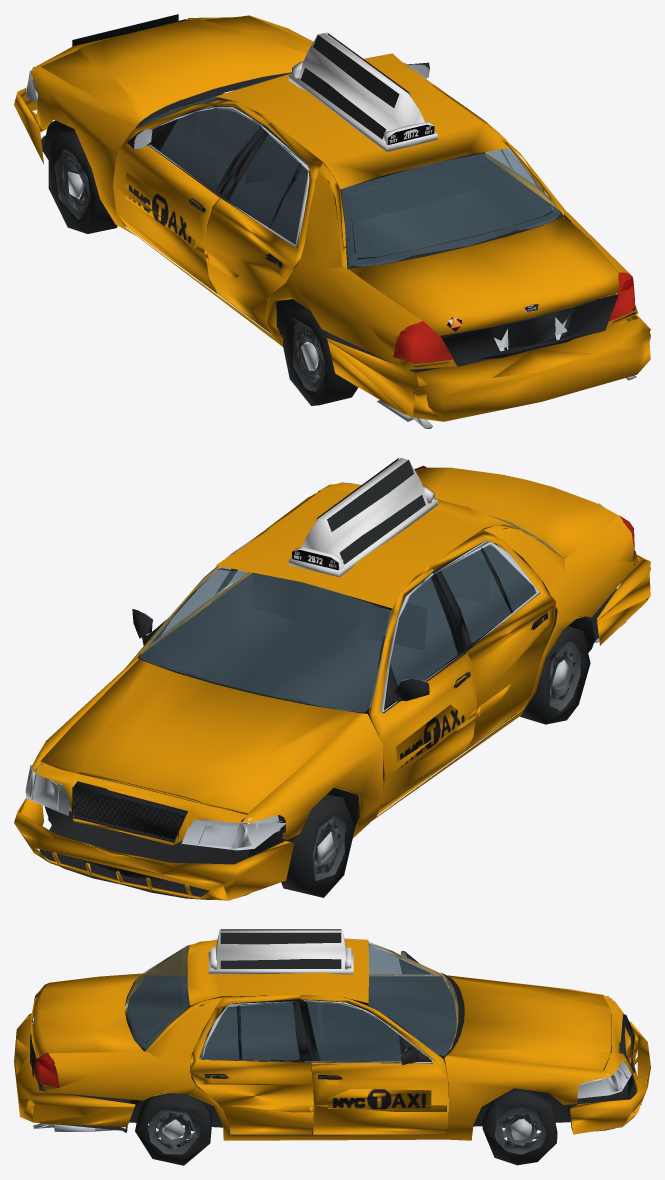
Rendered from taxi_lod2.glb.
3 views of the same model, one above another, from view 1: azimuth 30°, elevation 25°; view 2: azimuth 150°, elevation 25°; view 3: azimuth 270°, elevation 25° (orthographic). The views are drawn at different scales.
Parts seen in each view (by area): view 1: LOD2_BodyCore, LOD2_Bumper_Rear, LOD2_Trunk, LOD2_Glass_Rear, LOD2_Hood, LOD2_Door_FL, LOD2_Door_RL, LOD2_RoofSign, LOD2_Glass_FL, LOD2_Glass_RL, LOD2_Wheel_RL, LOD2_Wheel_FL (+6 smaller); view 2: LOD2_BodyCore, LOD2_Hood, LOD2_Glass_Windshield, LOD2_Door_FL, LOD2_Door_RL, LOD2_Bumper_Front, LOD2_RoofSign, LOD2_Trunk, LOD2_Grille, LOD2_Wheel_FL, LOD2_Glass_RL, LOD2_Glass_FL (+7 smaller); view 3: LOD2_BodyCore, LOD2_Hood, LOD2_Door_FR, LOD2_Door_RR, LOD2_Trunk, LOD2_Glass_Windshield, LOD2_RoofSign, LOD2_Bumper_Rear, LOD2_Glass_RR, LOD2_Wheel_FR, LOD2_Wheel_RR, LOD2_Glass_FR (+8 smaller).
Part boxes in pixels (bbox=[...]): LOD2_BodyCore: bbox=[30, 15, 638, 428]; LOD2_Bumper_Rear: bbox=[327, 293, 650, 421]; LOD2_Trunk: bbox=[348, 216, 618, 335]; LOD2_Glass_Rear: bbox=[341, 148, 561, 268]; LOD2_Hood: bbox=[41, 16, 311, 124]; LOD2_Door_FL: bbox=[113, 100, 271, 293]; LOD2_Door_RL: bbox=[204, 122, 323, 331]; LOD2_RoofSign: bbox=[288, 32, 437, 151]; LOD2_Glass_FL: bbox=[160, 108, 260, 190]; LOD2_Glass_RL: bbox=[230, 135, 307, 244]; LOD2_Wheel_RL: bbox=[282, 307, 358, 405]; LOD2_Wheel_FL: bbox=[48, 130, 117, 233]; LOD2_BodyCore: bbox=[30, 482, 638, 899]; LOD2_Hood: bbox=[40, 659, 360, 814]; LOD2_Glass_Windshield: bbox=[140, 567, 391, 712]; LOD2_Door_FL: bbox=[369, 566, 480, 815]; LOD2_Door_RL: bbox=[428, 530, 555, 749]; LOD2_Bumper_Front: bbox=[14, 798, 294, 900]; LOD2_RoofSign: bbox=[288, 458, 437, 577]; LOD2_Trunk: bbox=[415, 467, 618, 558]; LOD2_Grille: bbox=[36, 764, 246, 845]; LOD2_Wheel_FL: bbox=[281, 795, 355, 897]; LOD2_Glass_RL: bbox=[441, 545, 535, 642]; LOD2_Glass_FL: bbox=[390, 577, 457, 685]; LOD2_BodyCore: bbox=[33, 938, 636, 1140]; LOD2_Hood: bbox=[448, 975, 611, 1069]; LOD2_Door_FR: bbox=[300, 995, 448, 1134]; LOD2_Door_RR: bbox=[189, 995, 313, 1134]; LOD2_Trunk: bbox=[31, 974, 143, 1058]; LOD2_Glass_Windshield: bbox=[368, 942, 457, 1055]; LOD2_RoofSign: bbox=[208, 929, 353, 974]; LOD2_Bumper_Rear: bbox=[14, 991, 135, 1126]; LOD2_Glass_RR: bbox=[203, 1002, 299, 1060]; LOD2_Wheel_FR: bbox=[482, 1089, 557, 1165]; LOD2_Wheel_RR: bbox=[135, 1093, 212, 1165]; LOD2_Glass_FR: bbox=[307, 1001, 401, 1061].
Bounding box in the file's own units: 2.15 × 1.77 × 5.38.
2 materials, 1 textured.
